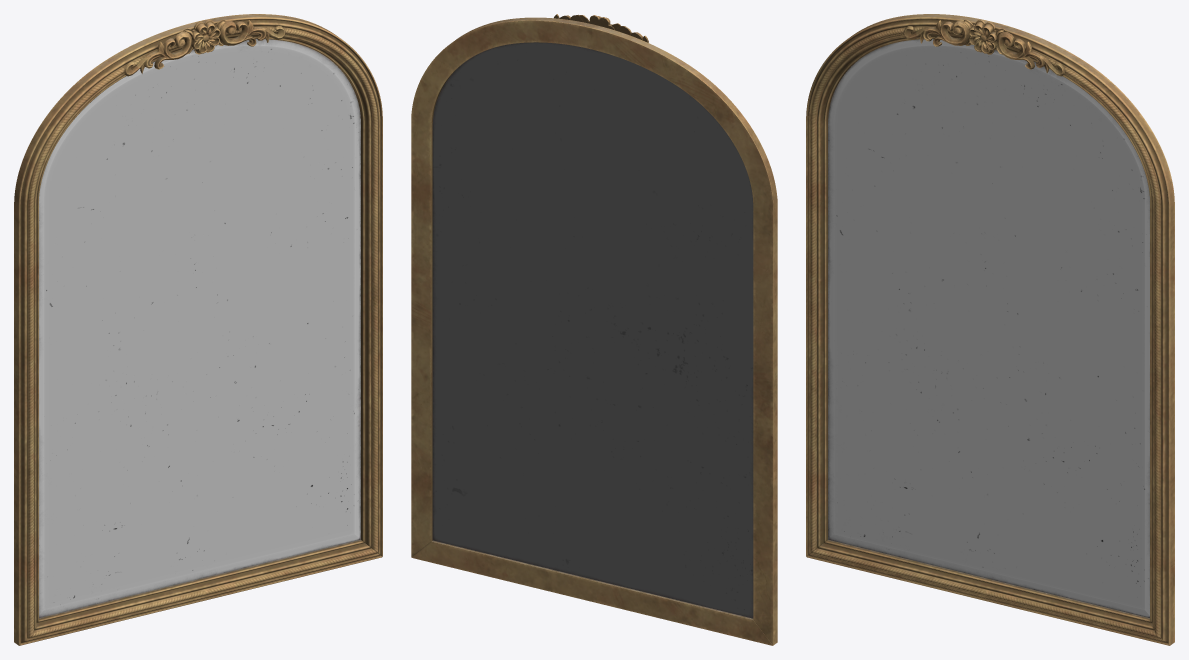
File: Mirror.glb
The picture shows the model from 3 angles, left to right: view 1: azimuth 30°, elevation 25°; view 2: azimuth 150°, elevation 25°; view 3: azimuth 330°, elevation 25°; orthographic projection.
Visible parts, largest first — view 1: ornate_mirror; view 2: ornate_mirror; view 3: ornate_mirror.
Boxes of the visible parts, bbox=[...] form: ornate_mirror: bbox=[14, 14, 382, 645]; ornate_mirror: bbox=[411, 14, 777, 645]; ornate_mirror: bbox=[806, 14, 1174, 645].
Bounding box in the file's own units: 0.4865 × 0.7442 × 0.026.
1 material, 1 textured.
